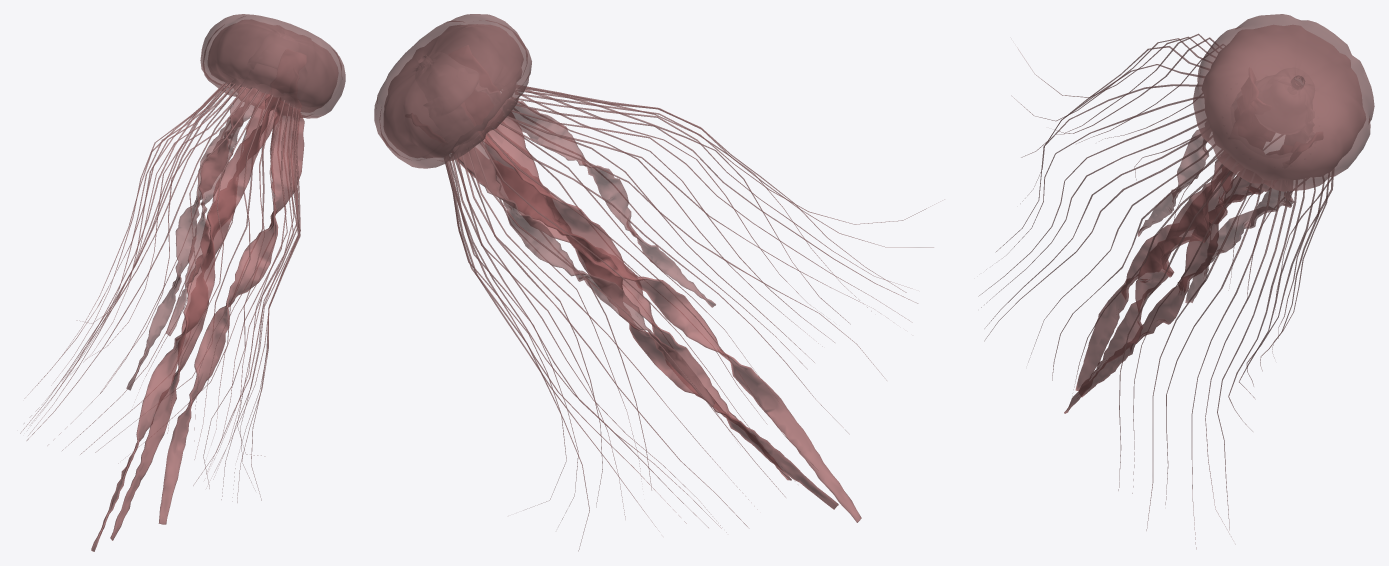
The model's file is jellyfish.glb.
3 renders of one model, left to right at view 1: azimuth 30°, elevation 25°; view 2: azimuth 150°, elevation 25°; view 3: azimuth 270°, elevation 25°, orthographic. The views are drawn at different scales.
Visible parts, largest first — view 1: Object_14; view 2: Object_14; view 3: Object_14.
Part boxes in pixels (x1,y1,x2,y2): Object_14: [20, 14, 345, 551]; Object_14: [374, 14, 944, 551]; Object_14: [978, 14, 1374, 549].
Size of the model in its own units: 1.37 by 1.56 by 1.02.
